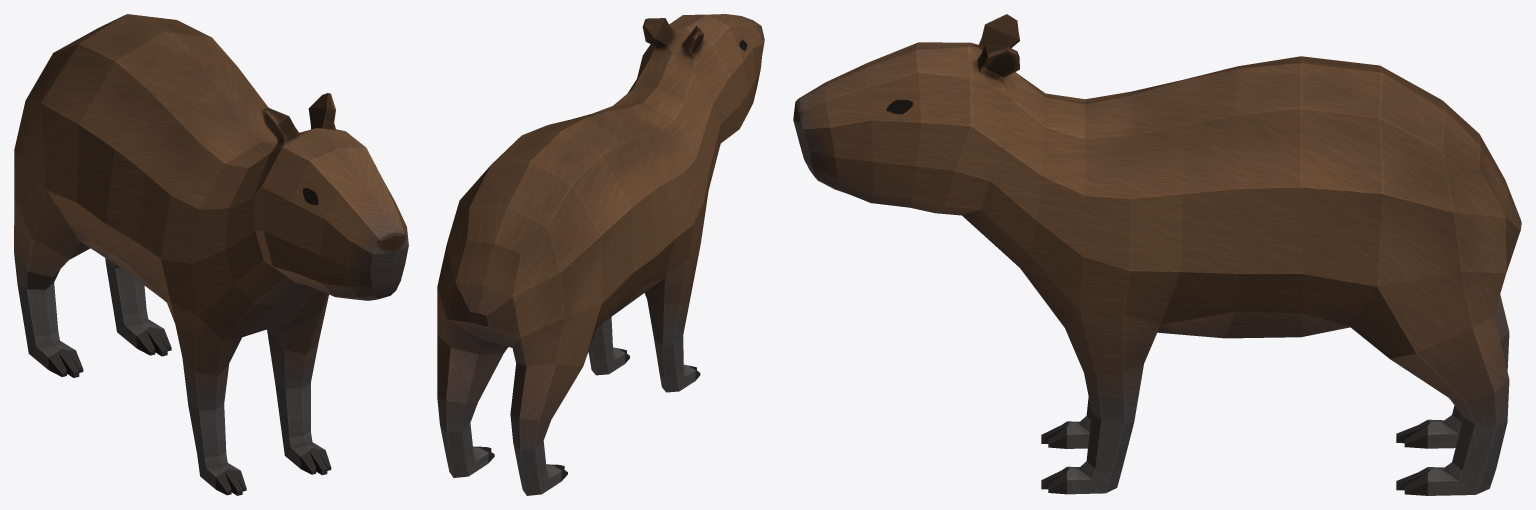
File: capybara.glb
3 views of the same model, side by side, from view 1: azimuth 30°, elevation 25°; view 2: azimuth 150°, elevation 25°; view 3: azimuth 270°, elevation 25° (orthographic). The views are drawn at different scales.
Parts seen in each view (by area): view 1: Geometry; view 2: Geometry; view 3: Geometry.
Boxes of the visible parts, x1=… form: Geometry: x1=14, y1=14, x2=408, y2=495; Geometry: x1=437, y1=14, x2=764, y2=495; Geometry: x1=793, y1=14, x2=1521, y2=495.
Size of the model in its own units: 0.5495 by 1.2 by 1.82.
Materials: 1 (1 with a texture image).
